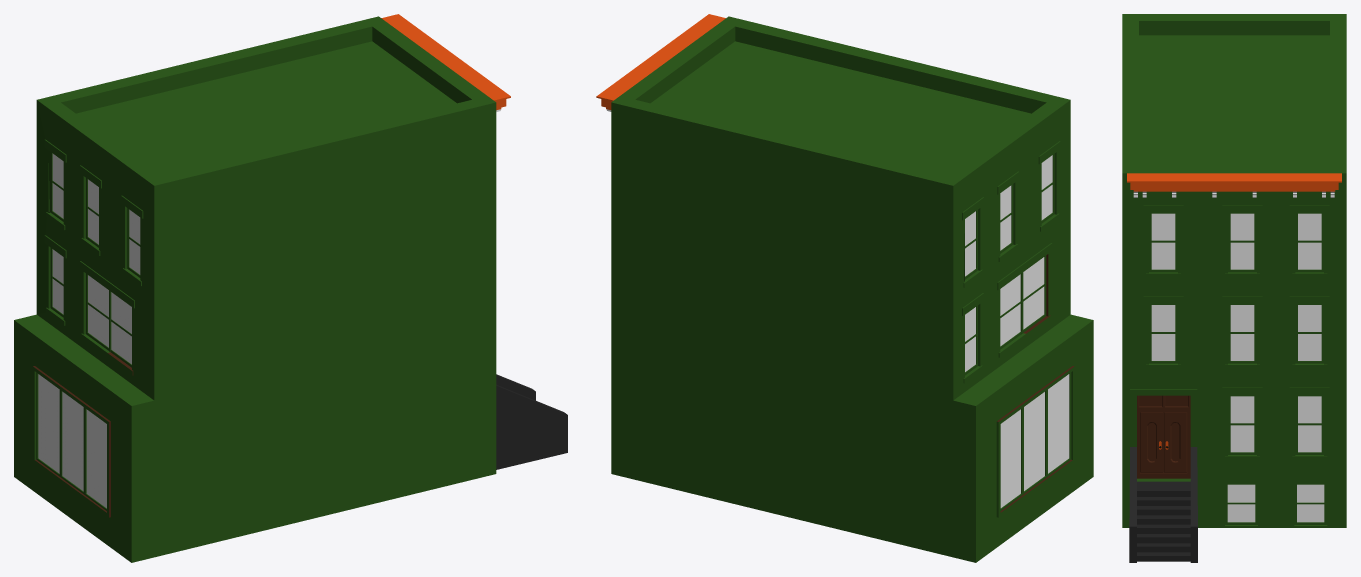
Rendered from house2.FBX.
The picture shows the model from 3 angles, left to right: view 1: azimuth 30°, elevation 25°; view 2: azimuth 150°, elevation 25°; view 3: azimuth 270°, elevation 25°; orthographic projection. The views are drawn at different scales.
Visible parts, largest first — view 1: Building_Y; view 2: Building_Y; view 3: Building_Y.
Part boxes in pixels (box(x1,y1,x2,y2)): Building_Y: box(14, 14, 567, 562); Building_Y: box(596, 14, 1093, 562); Building_Y: box(1122, 14, 1346, 562).
Size of the model in its own units: 571 by 459 by 263.
